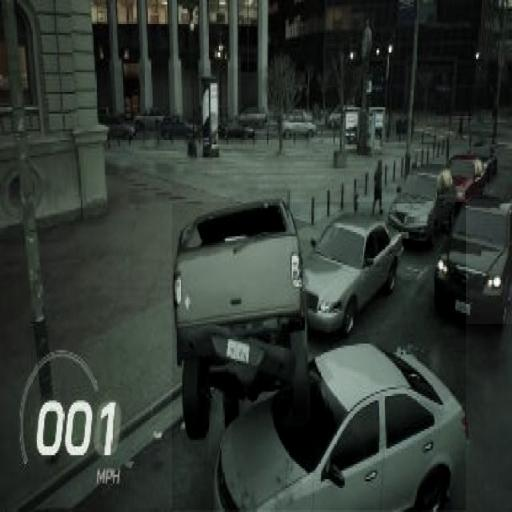小汽车: (307, 206, 407, 336), (431, 199, 512, 324), (389, 164, 458, 249)
小汽车撞小汽车: (172, 202, 466, 510)
